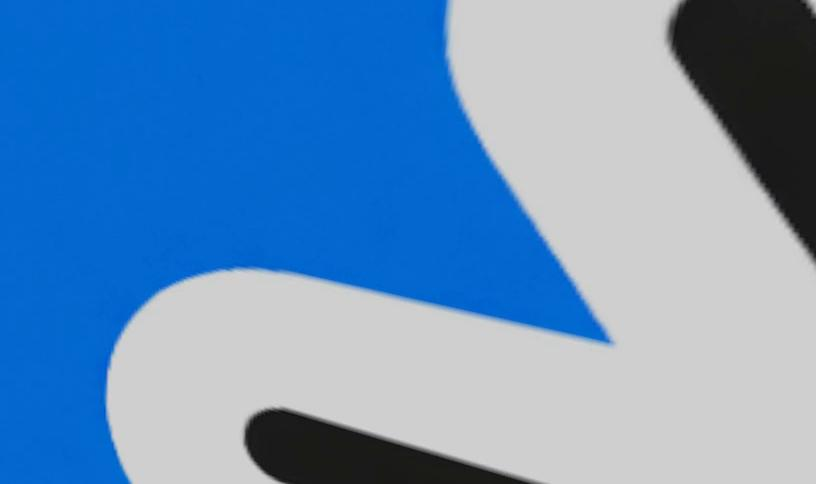KFS_REAL: (0, 0, 596, 483)
